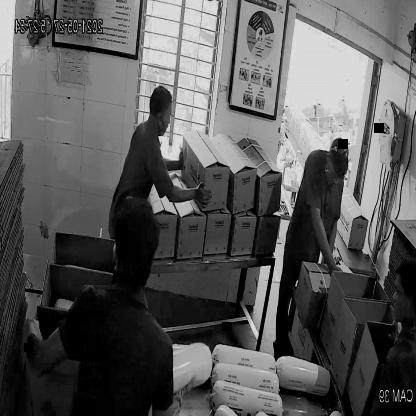no_goggles: (326, 170, 347, 182)
